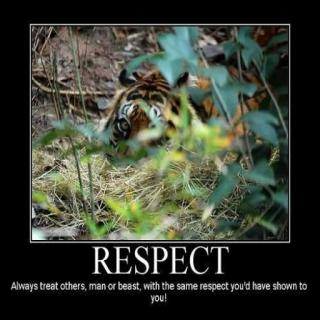Tiger: (98, 62, 254, 176)
